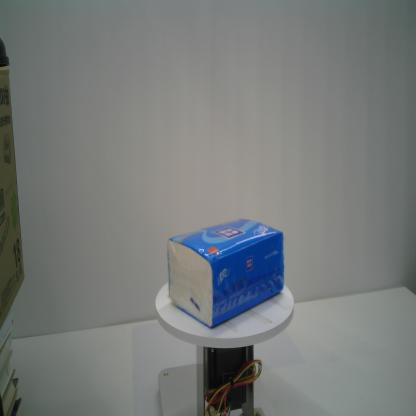Tissue: (166, 216, 286, 331)
